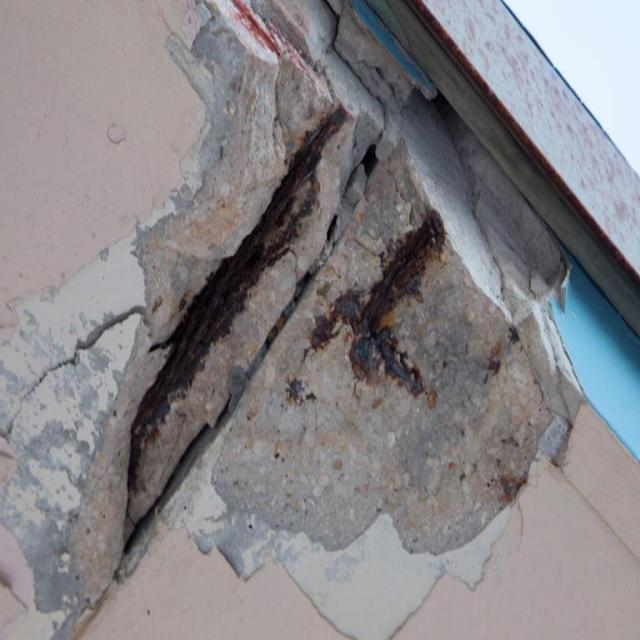spalling: (0, 0, 586, 639)
